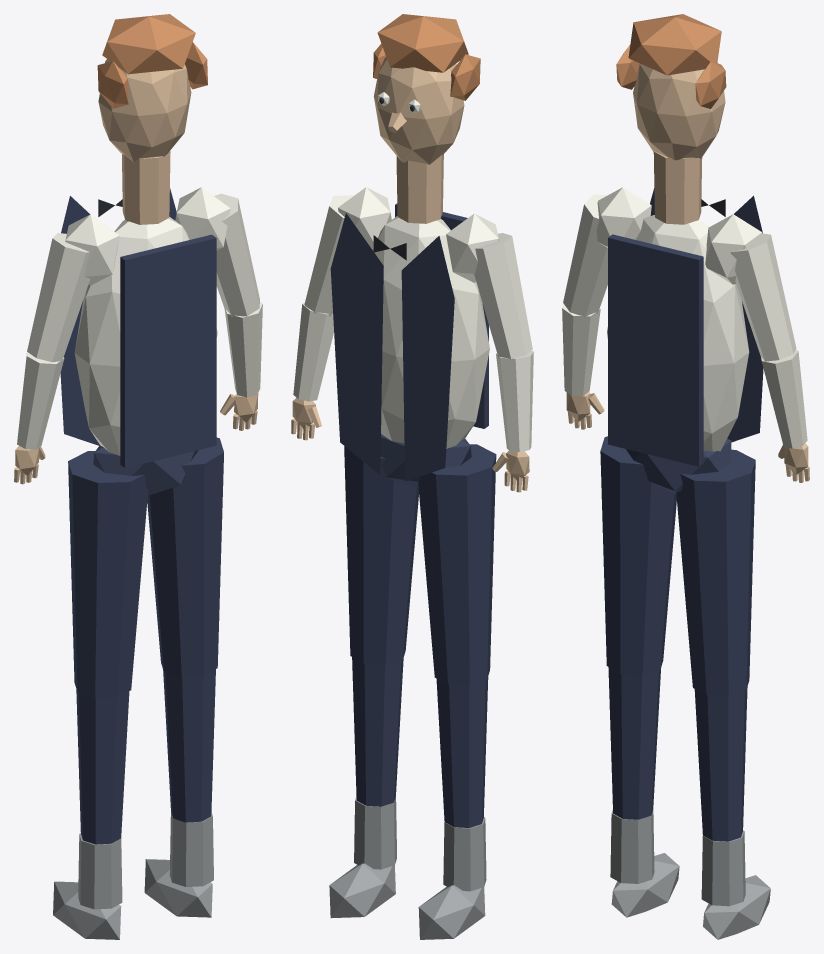
File: OutfitJacob.fbx
The picture shows the model from 3 angles, left to right: view 1: azimuth 30°, elevation 25°; view 2: azimuth 150°, elevation 25°; view 3: azimuth 330°, elevation 25°; orthographic projection. The views are drawn at different scales.
Visible parts, largest first — view 1: VestBack, ThighLeft, ThighRight, Torso, CalfLeft, CalfRight, Face, SleeveLeft, HairTop, SleeveRight, Neck, BootTopLeft (+12 smaller); view 2: ThighLeft, ThighRight, Torso, VestFront, VestFront.001, CalfLeft, Face, CalfRight, SleeveLeft, HairTop, ForearmSleeveLeft, Neck (+12 smaller); view 3: VestBack, ThighRight, ThighLeft, Torso, CalfRight, CalfLeft, Face, SleeveRight, HairTop, SleeveLeft, Neck, ForearmSleeveRight (+13 smaller).
Boxes of the visible parts, x1,y1,x2,y2 form: VestBack: [120, 234, 216, 467]; ThighLeft: [68, 451, 148, 697]; ThighRight: [147, 437, 223, 677]; Torso: [74, 217, 217, 456]; CalfLeft: [76, 689, 129, 844]; CalfRight: [163, 669, 215, 822]; Face: [98, 59, 191, 162]; SleeveLeft: [27, 233, 90, 362]; HairTop: [102, 14, 195, 74]; SleeveRight: [214, 193, 259, 316]; Neck: [122, 151, 170, 224]; BootTopLeft: [78, 833, 122, 909]; ThighLeft: [418, 444, 496, 684]; ThighRight: [344, 446, 418, 665]; Torso: [372, 216, 489, 448]; VestFront: [330, 213, 383, 474]; VestFront.001: [401, 236, 454, 481]; CalfLeft: [436, 676, 488, 827]; Face: [373, 57, 464, 164]; CalfRight: [352, 657, 403, 806]; SleeveLeft: [474, 233, 532, 359]; HairTop: [377, 14, 468, 72]; ForearmSleeveLeft: [496, 351, 533, 451]; Neck: [396, 154, 443, 223]; VestBack: [608, 234, 703, 466]; ThighRight: [676, 449, 755, 695]; ThighLeft: [600, 436, 676, 675]; Torso: [607, 215, 749, 451]; CalfRight: [694, 687, 747, 841]; CalfLeft: [608, 667, 661, 819]; Face: [633, 62, 725, 160]; SleeveRight: [730, 233, 796, 361]; HairTop: [628, 14, 721, 75]; SleeveLeft: [563, 194, 607, 317]; Neck: [653, 151, 702, 224]; ForearmSleeveRight: [761, 349, 807, 448].
Size of the model in its own units: 0.4823 by 1.75 by 0.22.
